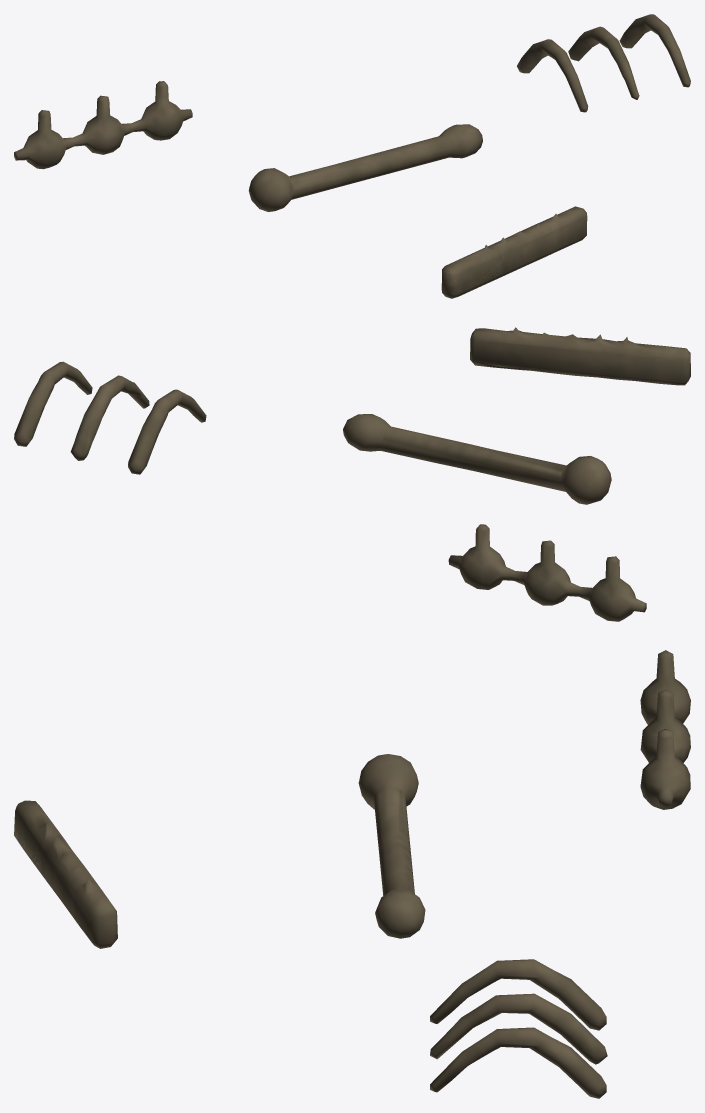
The model's file is lf_arena_bones.glb.
3 renders of one model, top to bottom at view 1: azimuth 30°, elevation 25°; view 2: azimuth 150°, elevation 25°; view 3: azimuth 270°, elevation 25°, orthographic. The views are drawn at different scales.
Parts seen in each view (by area): view 1: lf_arena_bones_LOD0; view 2: lf_arena_bones_LOD0; view 3: lf_arena_bones_LOD0.
Part boxes in pixels (x1,y1,x2,y2): lf_arena_bones_LOD0: (14,14,690,298); lf_arena_bones_LOD0: (14,327,690,621); lf_arena_bones_LOD0: (14,650,690,1098).
Size of the model in its own units: 4.05 by 0.3745 by 2.94.
1 material, 1 textured.
